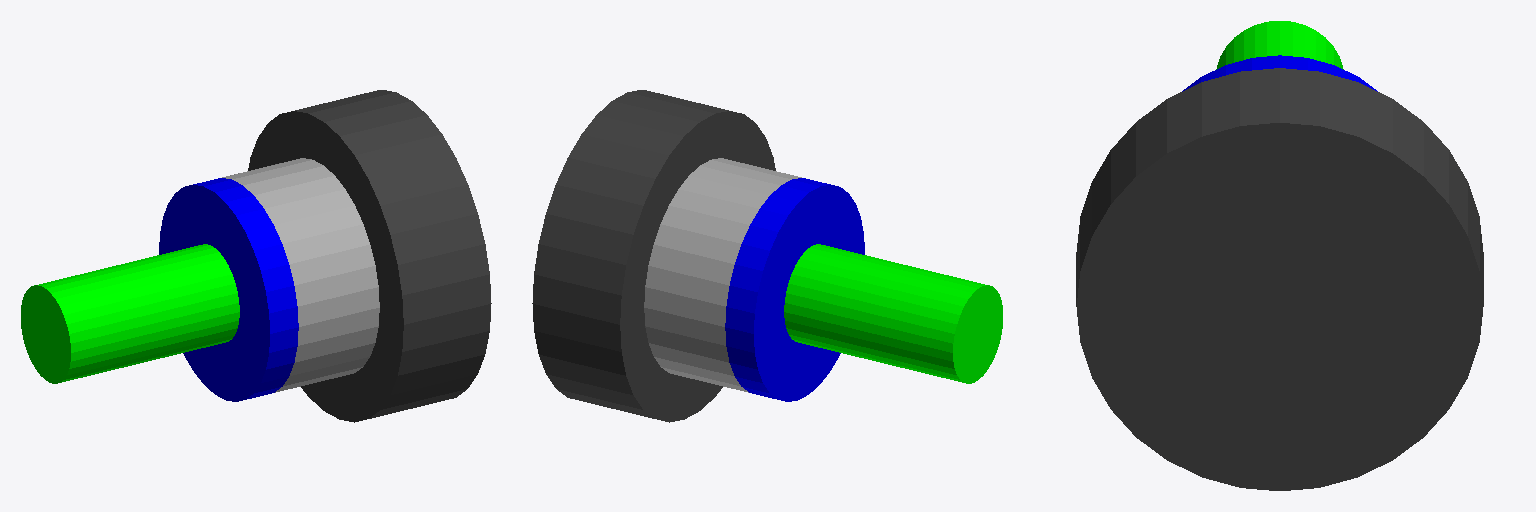
robot.urdf — panda:
<?xml version="1.0" ?>
<!-- =================================================================================== -->
<!-- |    This document was autogenerated by xacro from panda_arm_hand.urdf.xacro      | -->
<!-- |    EDITING THIS FILE BY HAND IS NOT RECOMMENDED                                 | -->
<!-- =================================================================================== -->
<robot name="panda" xmlns:xacro="http://www.ros.org/wiki/xacro">
  <link name="panda_link0">
  	<inertial>
      <origin rpy="0 0 0" xyz="0 0 0"/>
       <mass value="5.0"/>
       <inertia ixx="0.1" ixy="0" ixz="0" iyy="0.1" iyz="0" izz="0.1"/>
    </inertial>
    <visual>
      <geometry>
        <mesh filename="package://meshes/collision/link0.obj"/>
      </geometry>
      <material name="panda_white">
    		<color rgba="1. 1. 1. 1."/>
  		</material>
    </visual>
    <collision>
      <geometry>
        <mesh filename="package://meshes/collision/link0.obj"/>
      </geometry>
    </collision>
  </link>
  <link name="panda_link1">
  	<inertial>
      <origin rpy="0 0 0" xyz="0.00033 -0.02204 -0.04762"/>
       <mass value="2.7907"/>
       <inertia ixx="0.01564782655" ixy="0.00000531236" ixz="-0.00003676721" iyy="0.01439883526" iyz="-0.00248480843" izz="0.00500443991"/>
    </inertial>
    <visual>
      <geometry>
        <mesh filename="package://meshes/visual/link1.obj"/>
      </geometry>
      <material name="panda_white"/>
    </visual>
    <collision>
      <geometry>
        <mesh filename="package://meshes/collision/link1.obj"/>
      </geometry>
    </collision>
  </link>
  <link name="panda_link2">
  	<inertial>
      <origin rpy="0 0 0" xyz="0.00038 -0.09211 0.01908"/>
       <mass value="2.5420"/>
       <inertia ixx="0.01662427728" ixy="0.00003086077" ixz="0.00000835940" iyy="0.00462501261" iyz="0.00355899830" izz="0.01545124526"/>
    </inertial>
    <visual>
      <geometry>
        <mesh filename="package://meshes/visual/link2.obj"/>
      </geometry>
      <material name="panda_white"/>
    </visual>
    <collision>
      <geometry>
        <mesh filename="package://meshes/collision/link2.obj"/>
      </geometry>
    </collision>
  </link>
  <link name="panda_link3">
	  <inertial>
      <origin rpy="0 0 0" xyz="0.05152 0.01696 -0.02971"/>
       <mass value="2.2513"/>
       <inertia ixx="0.00631741992" ixy="0.00097309955" ixz="0.00292525834" iyy="0.00866285493" iyz="0.00093469224" izz="0.00657804051"/>
    </inertial>
    <visual>
      <geometry>
        <mesh filename="package://meshes/visual/link3.obj"/>
      </geometry>
      <material name="panda_red">
    		<color rgba="1. 1. 1. 1."/>
  		</material>
    </visual>
    <collision>
      <geometry>
        <mesh filename="package://meshes/collision/link3.obj"/>
      </geometry>
    </collision>
  </link>
  <link name="panda_link4">
  	<inertial>
      <origin rpy="0 0 0" xyz="-0.05113 0.05825 0.01698"/>
       <mass value="2.2037"/>
       <inertia ixx="0.0156" ixy="-0.0" ixz="0.0" iyy="0.01439" iyz="-0.0024" izz="0.005"/>
    </inertial>
    <visual>
      <geometry>
        <mesh filename="package://meshes/visual/link4.obj"/>
      </geometry>
      <material name="panda_white"/>
    </visual>
    <collision>
      <geometry>
        <mesh filename="package://meshes/collision/link4.obj"/>
      </geometry>
    </collision>
  </link>
  <link name="panda_link5">
  	<inertial>
      <origin rpy="0 0 0" xyz="-0.00005 0.03730 -0.09280"/>
       <mass value="2.2855"/>
       <inertia ixx="0.02297014781" ixy="-0.00000949345" ixz="-0.00002063156" iyy="0.02095060919" iyz="0.00382345782" izz="0.00430606551"/>
    </inertial>
    <visual>
      <geometry>
        <mesh filename="package://meshes/visual/link5.obj"/>
      </geometry>
      <material name="panda_white"/>
    </visual>
    <!--
    <collision>
      <geometry>
        <mesh filename="package://meshes/collision/link5.obj"/>
      </geometry>
    </collision>
    -->
    <collision>
      <origin rpy="0.0 0.0 0.0" xyz="0.0 0.0 -0.22"/>
      <geometry>
        <cylinder length="0.07" radius="0.055"/>
      </geometry>
    </collision>
    <collision>
      <origin rpy="-1.57079632 0.0 0.0" xyz="0.0 0.06 0"/>
      <geometry>
        <cylinder length="0.08" radius="0.05"/>
      </geometry>
    </collision>
    <collision>
      <origin rpy="-1.57079632 0.0 0.0" xyz="0.0 0.06 0"/>
      <geometry>
        <cylinder length="0.08" radius="0.05"/>
      </geometry>
    </collision>
    <collision>
      <origin rpy="0.0 0.0 0.0" xyz="0.01 0.08 -0.14"/>
      <geometry>
        <sphere radius="0.022"/>
      </geometry>
    </collision>
    <collision>
      <origin rpy="0.0 0.0 0.0" xyz="0.01 0.085 -0.11"/>
      <geometry>
        <sphere radius="0.022"/>
      </geometry>
    </collision>
    <collision>
      <origin rpy="0.0 0.0 0.0" xyz="0.01 0.09 -0.08"/>
      <geometry>
        <sphere radius="0.022"/>
      </geometry>
    </collision>
    <collision>
      <origin rpy="0.0 0.0 0.0" xyz="0.01 0.095 -0.05"/>
      <geometry>
        <sphere radius="0.022"/>
      </geometry>
    </collision>
    <collision>
      <origin rpy="0.0 0.0 0.0" xyz="-0.01 0.08 -0.14"/>
      <geometry>
        <sphere radius="0.022"/>
      </geometry>
    </collision>
    <collision>
      <origin rpy="0.0 0.0 0.0" xyz="-0.01 0.085 -0.11"/>
      <geometry>
        <sphere radius="0.022"/>
      </geometry>
    </collision>
    <collision>
      <origin rpy="0.0 0.0 0.0" xyz="-0.01 0.09 -0.08"/>
      <geometry>
        <sphere radius="0.022"/>
      </geometry>
    </collision>
    <collision>
      <origin rpy="0.0 0.0 0.0" xyz="-0.01 0.095 -0.05"/>
      <geometry>
        <sphere radius="0.022"/>
      </geometry>
    </collision>

  </link>

  <link name="panda_link6">
  	<inertial>
      <origin rpy="0 0 0" xyz="0.06572 -0.00371 0.00153"/>
       <mass value="1.353"/>
       <inertia ixx="0.00087964522" ixy="-0.00021487814" ixz="-0.00011911662" iyy="0.00277796968" iyz="0.00001274322" izz="0.00286701969"/>
    </inertial>
    <visual>
      <geometry>
        <mesh filename="package://meshes/visual/link6.obj"/>
      </geometry>
      <material name="panda_white"/>
    </visual>
    <collision>
      <geometry>
        <mesh filename="package://meshes/collision/link6.obj"/>
      </geometry>
    </collision>
  </link>

  <link name="panda_link7">
  	<inertial>
      <origin rpy="0 0 0" xyz="0.00089 -0.00044 0.05491"/>
       <mass value="0.35973"/>
       <inertia ixx="0.00019541063" ixy="0.00000165231" ixz="0.00000148826" iyy="0.00019210361" iyz="-0.00000131132" izz="0.00017936256"/>
    </inertial>
    <visual>
      <geometry>
        <mesh filename="package://meshes/collision/link7.obj"/>
      </geometry>
      <material name="panda_white"/>
    </visual>
    <collision>
      <geometry>
        <mesh filename="package://meshes/collision/link7.obj"/>
      </geometry>
    </collision>
  </link>

  <link name="panda_flange">
    <inertial>
      <origin rpy="0 0 0" xyz="0 0 0"/>
       <mass value="0"/>
       <inertia ixx="0.0" ixy="0.0" ixz="0.0" iyy="0.0" iyz="0.0" izz="0.0"/>
    </inertial>
  </link>

  <joint name="panda_joint1" type="revolute">
    <origin rpy="0 0 0" xyz="0 0 0.333"/>
    <parent link="panda_link0"/>
    <child link="panda_link1"/>
    <axis xyz="0 0 1"/>
    <limit effort="87" lower="-2.8973" upper="2.8973" velocity="2.1750"/>
  </joint>
  <joint name="panda_joint2" type="revolute">
    <origin rpy="-1.57079632679 0 0" xyz="0 0 0"/>
    <parent link="panda_link1"/>
    <child link="panda_link2"/>
    <axis xyz="0 0 1"/>
    <limit effort="87" lower="-1.7628" upper="1.7628" velocity="2.1750"/>
  </joint>
  <joint name="panda_joint3" type="revolute">
    <origin rpy="1.57079632679 0 0" xyz="0 -0.316 0"/>
    <parent link="panda_link2"/>
    <child link="panda_link3"/>
    <axis xyz="0 0 1"/>
    <limit effort="87" lower="-2.8973" upper="2.8973" velocity="2.1750"/>
  </joint>
  <joint name="panda_joint4" type="revolute">
    <origin rpy="1.57079632679 0 0" xyz="0.0825 0 0"/>
    <parent link="panda_link3"/>
    <child link="panda_link4"/>
    <axis xyz="0 0 1"/>
    <limit effort="87" lower="-3.0718" upper="-0.0698" velocity="2.1750"/>
  </joint>
  <joint name="panda_joint5" type="revolute">
    <origin rpy="-1.57079632679 0 0" xyz="-0.0825 0.384 0"/>
    <parent link="panda_link4"/>
    <child link="panda_link5"/>
    <axis xyz="0 0 1"/>
    <limit effort="12" lower="-2.8973" upper="2.8973" velocity="2.6100"/>
  </joint>
  <joint name="panda_joint6" type="revolute">
    <origin rpy="1.57079632679 0 0" xyz="0 0 0"/>
    <parent link="panda_link5"/>
    <child link="panda_link6"/>
    <axis xyz="0 0 1"/>
    <limit effort="12" lower="-0.0175" upper="3.7525" velocity="2.6100"/>
  </joint>
  <joint name="panda_joint7" type="revolute">
    <origin rpy="1.57079632679 0 0" xyz="0.088 0 0"/>
    <parent link="panda_link6"/>
    <child link="panda_link7"/>
    <axis xyz="0 0 1"/>
    <limit effort="12" lower="-2.8973" upper="2.8973" velocity="2.6100"/>
  </joint>

  <joint name="panda_joint8" type="fixed">
    <origin rpy="0 0 0" xyz="0 0 0.1070"/>
    <parent link="panda_link7"/>
    <child link="panda_flange"/>
  </joint>
  
  <!-- End effector -->
  
  <link name="panda_flange_tool">
  	 <inertial>
      <origin rpy="0 0 0" xyz="0 0 0"/>
       <mass value="0.1"/>
       <inertia ixx="1e-5" ixy="0" ixz="0" iyy="1e-5" iyz="0" izz="1e-5"/>
    </inertial>
    <visual>
      <origin rpy="0.0 0.0 0.0" xyz="0.0 0.0 0.01"/>
      <geometry>
        <cylinder length="0.02" radius="0.0315"/>
      </geometry>
      <material name="panda_grey">
        <color rgba="0.3 0.3 0.3 1."/>
      </material>
    </visual>
    <collision>
      <origin rpy="0.0 0.0 0.0" xyz="0.0 0.0 0.01"/>
      <geometry>
        <cylinder length="0.02" radius="0.0315"/>
      </geometry>
    </collision>
  </link>

  <link name="panda_rft44">
  	 <inertial>
      <origin rpy="0 0 0" xyz="0 0 0"/>
       <mass value="0.1"/>
       <inertia ixx="1e-5" ixy="0" ixz="0" iyy="1e-5" iyz="0" izz="1e-5"/>
    </inertial>
    <visual>
      <origin rpy="0.0 0.0 0.0" xyz="0.0 0.0 0.00925"/>
      <geometry>
        <cylinder length="0.0185" radius="0.022"/>
      </geometry>
      <material name="panda_grey">
        <color rgba="0.7 0.7 0.7 1."/>
      </material>
    </visual>
    <collision>
      <origin rpy="0.0 0.0 0.0" xyz="0.0 0.0 0.00925"/>
      <geometry>
        <cylinder length="0.0185" radius="0.022"/>
      </geometry>
    </collision>
  </link>

  <link name="panda_stick">
  	 <inertial>
      <origin rpy="0 0 0" xyz="0 0 0"/>
       <mass value="0.1"/>
       <inertia ixx="1e-5" ixy="0" ixz="0" iyy="1e-5" iyz="0" izz="1e-5"/>
    </inertial>
    <visual>
      <origin rpy="0.0 0.0 0.0" xyz="0.0 0.0 0.00325"/>
      <geometry>
        <cylinder length="0.0065" radius="0.022"/>
      </geometry>
      <material name="panda_grey">
        <color rgba="0 0 1 1."/>
      </material>
    </visual>
    <visual>
      <origin rpy="0.0 0.0 0.0" xyz="0.0 0.0 0.025"/>
      <geometry>
        <cylinder length="0.04" radius="0.01"/>
      </geometry>
      <material name="panda_grey">
        <color rgba="0 1 0 1."/>
      </material>
    </visual>
    <collision>
      <origin rpy="0.0 0.0 0.0" xyz="0.0 0.0 0.025"/>
      <geometry>
        <cylinder length="0.04" radius="0.01"/>
      </geometry>
    </collision>
  </link>

  <link name="panda_ee">
  	 <inertial>
      <origin rpy="0 0 0" xyz="0 0 0"/>
       <mass value="0.1"/>
       <inertia ixx="1e-5" ixy="0" ixz="0" iyy="1e-5" iyz="0" izz="1e-5"/>
    </inertial>
  </link>
  
  <joint name="panda_joint9" type="fixed">
    <origin rpy="0 0 0" xyz="0 0 0"/>
    <parent link="panda_flange"/>
    <child link="panda_flange_tool"/>
    <axis xyz="0 0 0"/>
  </joint>

  <joint name="panda_joint10" type="fixed">
    <origin rpy="0 0 0" xyz="0 0 0.02"/>
    <parent link="panda_flange_tool"/>
    <child link="panda_rft44"/>
    <axis xyz="0 0 0"/>
  </joint>

  <joint name="panda_joint11" type="fixed">
    <origin rpy="0 0 0" xyz="0 0 0.0185"/>
    <parent link="panda_rft44"/>
    <child link="panda_stick"/>
    <axis xyz="0 0 0"/>
  </joint>

  <joint name="panda_joint12" type="fixed">
    <origin rpy="0 0 0" xyz="0 0 0.05"/>
    <parent link="panda_stick"/>
    <child link="panda_ee"/>
    <axis xyz="0 0 0"/>
  </joint>

</robot>

--- Render facts (derived) ---
3 views of the same robot in one strip: view 1: azimuth 30°, elevation 25°; view 2: azimuth 150°, elevation 25°; view 3: azimuth 270°, elevation 25° (orthographic).
Robot: panda — 13 links, 12 joints (7 revolute, 5 fixed); root link panda_link0; default pose: all joints at 0 but 1 set to mid-range because 0 is outside their limits (panda_joint4 = -1.57).
Visible links, largest first — view 1: panda_flange_tool, panda_stick, panda_rft44; view 2: panda_flange_tool, panda_stick, panda_rft44; view 3: panda_flange_tool, panda_stick.
Link boxes in pixels (bbox=[...]): panda_flange_tool: bbox=[248, 90, 491, 422]; panda_stick: bbox=[21, 178, 298, 401]; panda_rft44: bbox=[222, 158, 379, 392]; panda_flange_tool: bbox=[532, 90, 775, 422]; panda_stick: bbox=[725, 178, 1002, 401]; panda_rft44: bbox=[644, 158, 801, 392]; panda_flange_tool: bbox=[1076, 68, 1483, 490]; panda_stick: bbox=[1182, 21, 1377, 91].
Size in the robot's own frame: 0.0835 by 0.063 by 0.063 metres.
Meshes: 8 distinct files referenced, 0 mesh visuals loaded (none loaded); not drawn: 8 (reference not matched to a file when rendering).